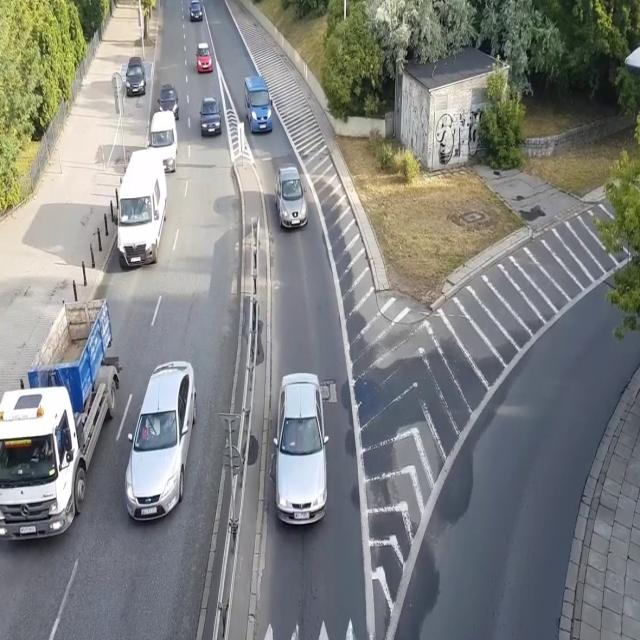car: (122, 358, 199, 524), (274, 371, 329, 528), (274, 162, 308, 234), (200, 96, 221, 138), (126, 56, 146, 95), (158, 86, 179, 118), (194, 41, 213, 76), (188, 0, 201, 20)
truck: (0, 297, 121, 543)
van: (113, 146, 168, 270), (242, 72, 275, 138), (148, 110, 179, 174)
